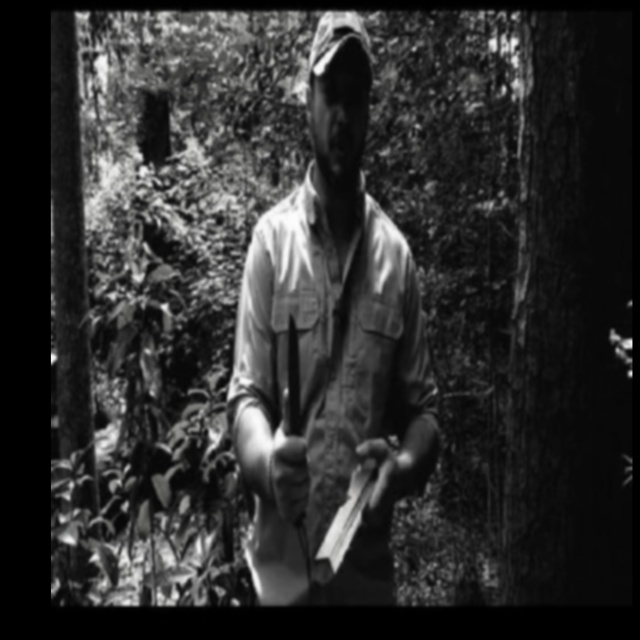Sharp-Object: (288, 314, 306, 532)
